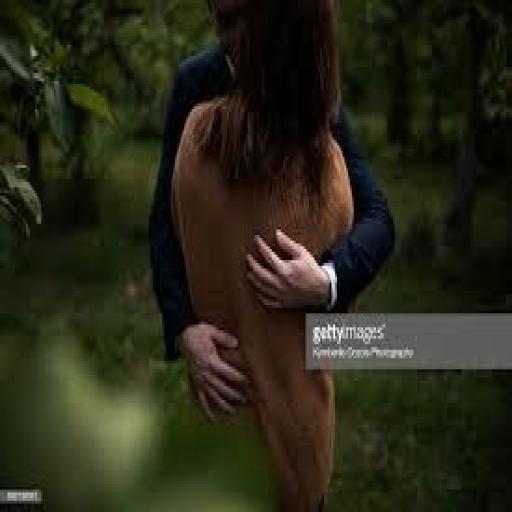hugging: (147, 0, 399, 509)
